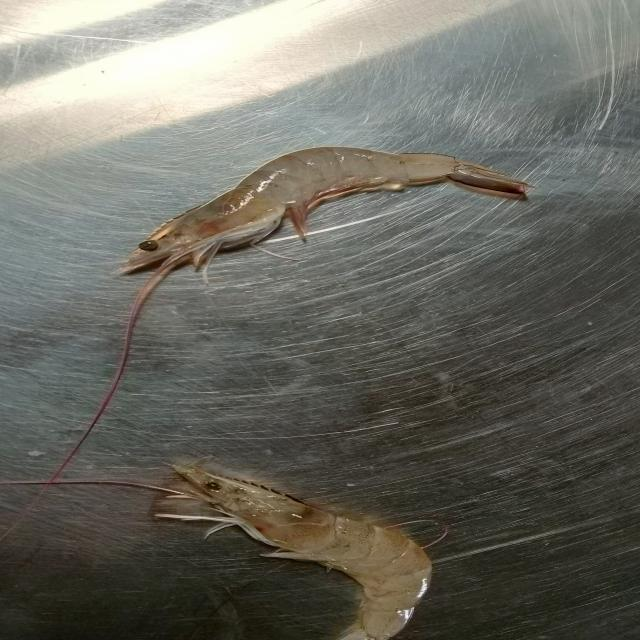shrimp: (122, 147, 534, 270), (166, 461, 433, 640)
